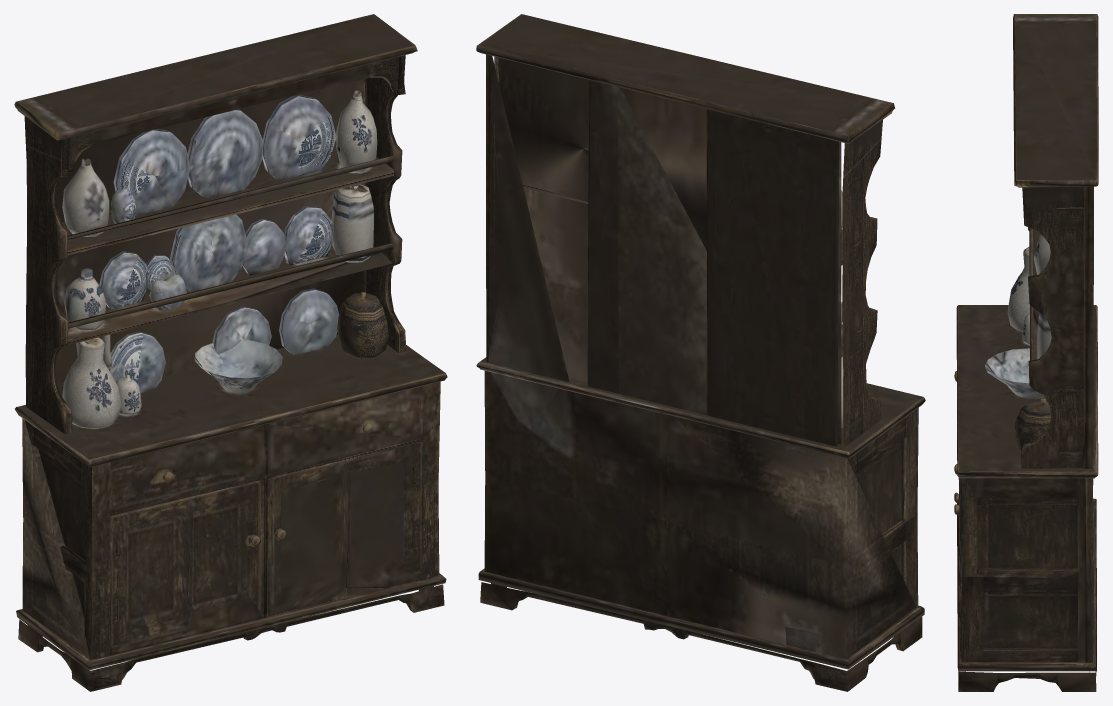
File: welsh_dresser.glb
3 renders of one model, left to right at view 1: azimuth 30°, elevation 25°; view 2: azimuth 150°, elevation 25°; view 3: azimuth 270°, elevation 25°, orthographic. The views are drawn at different scales.
Size of the model in its own units: 1.4 by 2 by 0.5117.
Materials: 1 (1 with a texture image).
